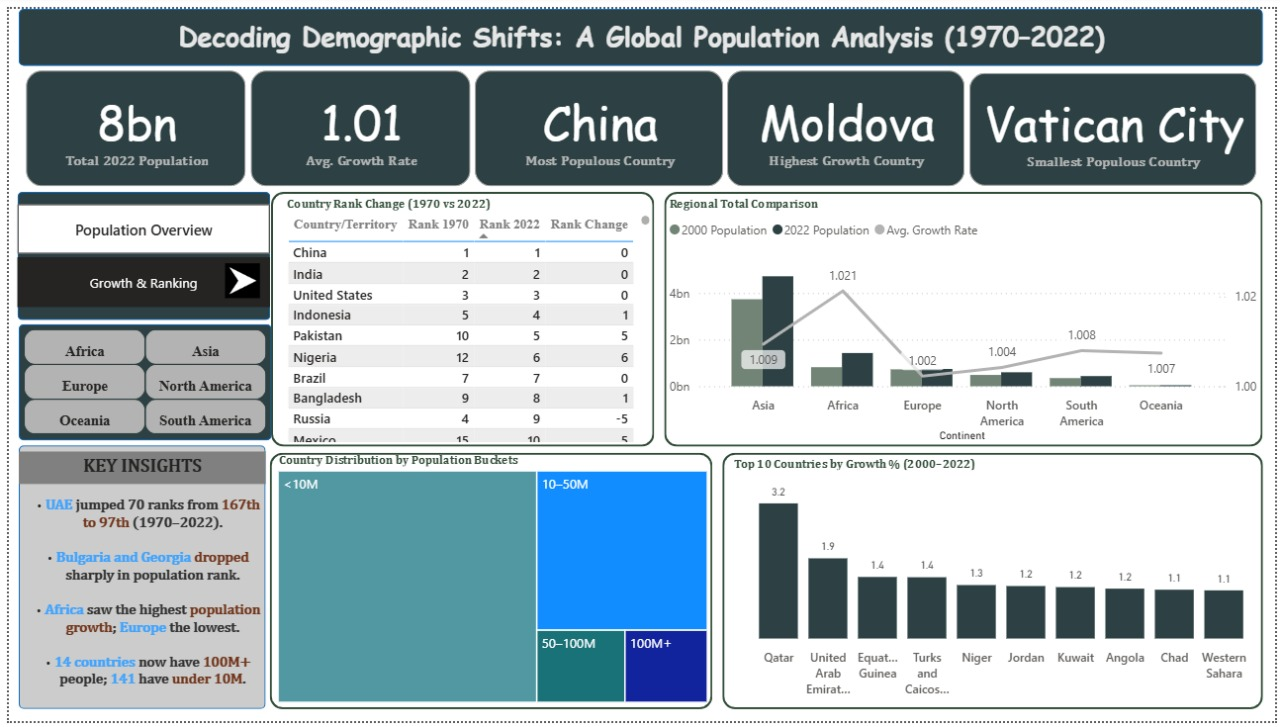

What the dashboard file says about the page in this screenshot:
{"tool":"powerbi","page":{"name":"Growth & Ranking","canvas":[1280,720],"ordinal":1},"visuals":[{"type":"shape","box":[10,0,1257.5,57.5],"z":0},{"type":"textbox","box":[163.8,3.8,951.2,48.8],"z":1000},{"type":"shape","box":[721.5,448.8,546.6,259.2],"z":2000},{"type":"shape","box":[662.5,185,605,257.5],"z":3000},{"type":"shape","box":[265,185,387.5,257.5],"z":4000},{"type":"cardVisual","fields":{"Data":["Sum(world_population.2022 Population)","Avg(world_population.Growth Rate)"]},"box":[12.2,57.5,459.8,127.2],"z":5000},{"type":"cardVisual","fields":{"Data":["world_population.Highest_Growth_Country"]},"box":[721.5,57.5,250.7,127.2],"z":6000},{"type":"cardVisual","fields":{"Data":["world_population.Smallest_Pop_Country"]},"box":[966,59.9,300.8,124.7],"z":7000},{"type":"shape","box":[264.1,448.8,447.6,259.2],"z":8000},{"type":"cardVisual","fields":{"Data":["world_population.Most_Populous_Country"]},"box":[465.9,57.5,261.7,127.2],"z":9000},{"type":"clusteredColumnChart","title":"Top 10 Countries by Growth % (2000–2022)","fields":{"Category":["world_population.Country/Territory"],"Y":["Sum(world_population.Growth %)"]},"box":[727.5,452.5,546.2,251.2],"z":10000},{"type":"shape","box":[9.8,441.4,249.5,266.6],"z":11000},{"type":"textbox","box":[9.8,447.6,249.5,33],"z":12000},{"type":"textbox","box":[12.2,489.1,247,214],"z":13000},{"type":"treemap","title":"Country Distribution by Population Buckets","fields":{"Group":["world_population.PopBucket"],"Values":["CountNonNull(world_population.Country/Territory)"]},"box":[267.5,448.8,443.8,257.5],"z":14000},{"type":"lineClusteredColumnComboChart","title":"Regional Total Comparison","fields":{"Category":["world_population.Continent"],"Y":["Sum(world_population.2000 Population)","Sum(world_population.2022 Population)"],"Y2":["Avg(world_population.Growth Rate)"]},"box":[662.5,190,605,252.5],"z":15000},{"type":"tableEx","title":"Country Rank Change (1970 vs 2022)","fields":{"Values":["world_population.Country/Territory","Sum(world_population.Rank1970)","Sum(world_population.Rank2022)","Sum(world_population.RankChange)"]},"box":[276.4,189.5,376.6,253.1],"z":16000},{"type":"shape","box":[8.6,184.6,255.6,129.6],"z":17000},{"type":"shape","box":[9.8,319.2,255.6,117.4],"z":18000},{"type":"advancedSlicerVisual","fields":{"Values":["world_population.Continent"]},"box":[11,320.4,253.1,114.9],"z":19000},{"type":"pageNavigator","box":[8.6,196.9,255.6,50.1],"z":20000},{"type":"pageNavigator","box":[8.6,250.7,255.6,50.1],"z":21000},{"type":"image","box":[214,249.5,45.2,48.9],"z":22000}]}

Visuals, with their boxes in screenshot pixels (x1, y1, x2, y2), scaled from the page's 1280x720 canvas onto the 1280x727 screenshot:
shape: <box>10,0,1268,58</box>
textbox: <box>164,4,1115,53</box>
shape: <box>722,453,1268,715</box>
shape: <box>662,187,1268,447</box>
shape: <box>265,187,652,447</box>
cardVisual - Sum(world_population.2022 Population) x Avg(world_population.Growth Rate): <box>12,58,472,186</box>
cardVisual - world_population.Highest_Growth_Country: <box>722,58,972,186</box>
cardVisual - world_population.Smallest_Pop_Country: <box>966,60,1267,186</box>
shape: <box>264,453,712,715</box>
cardVisual - world_population.Most_Populous_Country: <box>466,58,728,186</box>
"Top 10 Countries by Growth % (2000–2022)" clusteredColumnChart: <box>728,457,1274,711</box>
shape: <box>10,446,259,715</box>
textbox: <box>10,452,259,485</box>
textbox: <box>12,494,259,710</box>
"Country Distribution by Population Buckets" treemap: <box>268,453,711,713</box>
"Regional Total Comparison" lineClusteredColumnComboChart: <box>662,192,1268,447</box>
"Country Rank Change (1970 vs 2022)" tableEx: <box>276,191,653,447</box>
shape: <box>9,186,264,317</box>
shape: <box>10,322,265,441</box>
advancedSlicerVisual - world_population.Continent: <box>11,324,264,440</box>
pageNavigator: <box>9,199,264,249</box>
pageNavigator: <box>9,253,264,304</box>
image: <box>214,252,259,301</box>
